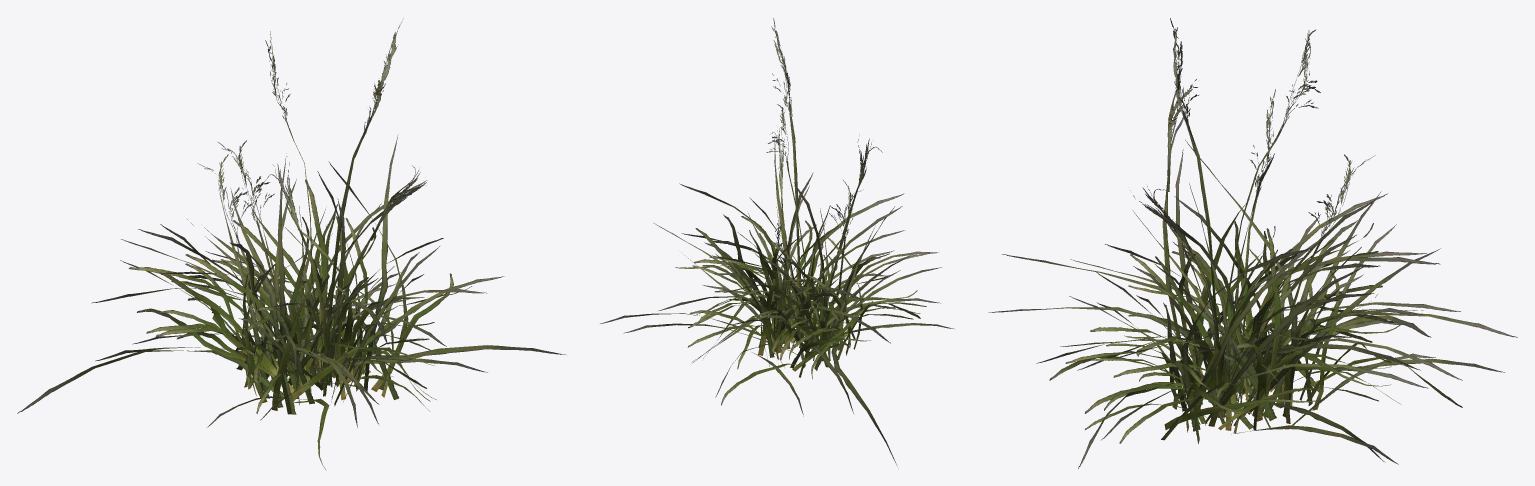
Rendered from grass-medium-01-mid-a.glb.
3 renders of one model, left to right at view 1: azimuth 30°, elevation 25°; view 2: azimuth 150°, elevation 25°; view 3: azimuth 270°, elevation 25°, orthographic. The views are drawn at different scales.
Parts seen in each view (by area): view 1: grass_medium_01_mid_a; view 2: grass_medium_01_mid_a; view 3: grass_medium_01_mid_a.
Part boxes in pixels (x1,y1,x2,y2): grass_medium_01_mid_a: (17,22,565,470); grass_medium_01_mid_a: (600,18,953,465); grass_medium_01_mid_a: (988,18,1517,468).
Size of the model in its own units: 0.2156 by 0.2178 by 0.2214.
1 material, 1 textured.
